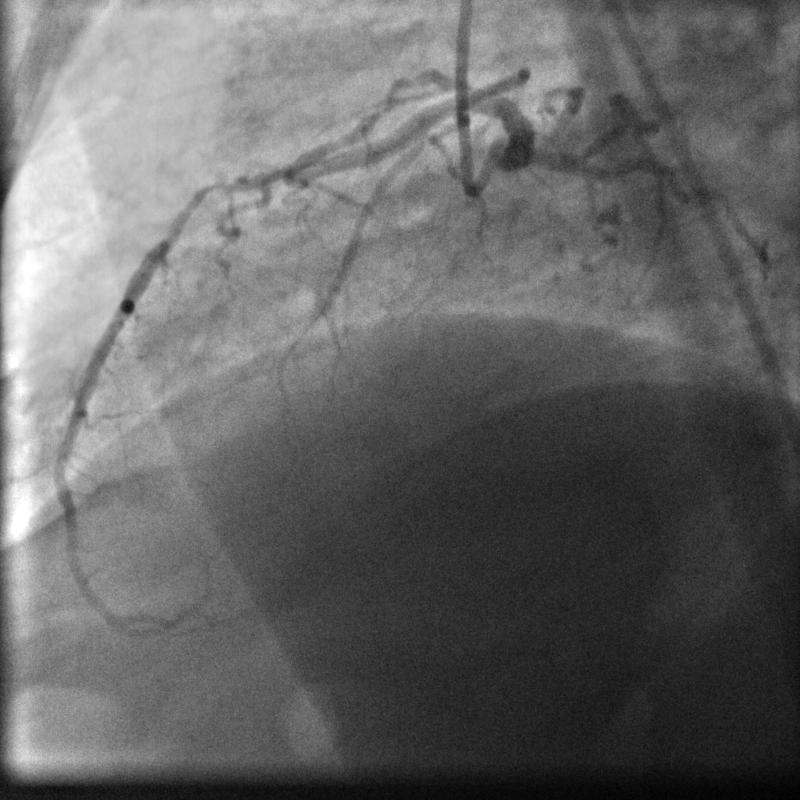Stenosis: (165, 176, 236, 234)
